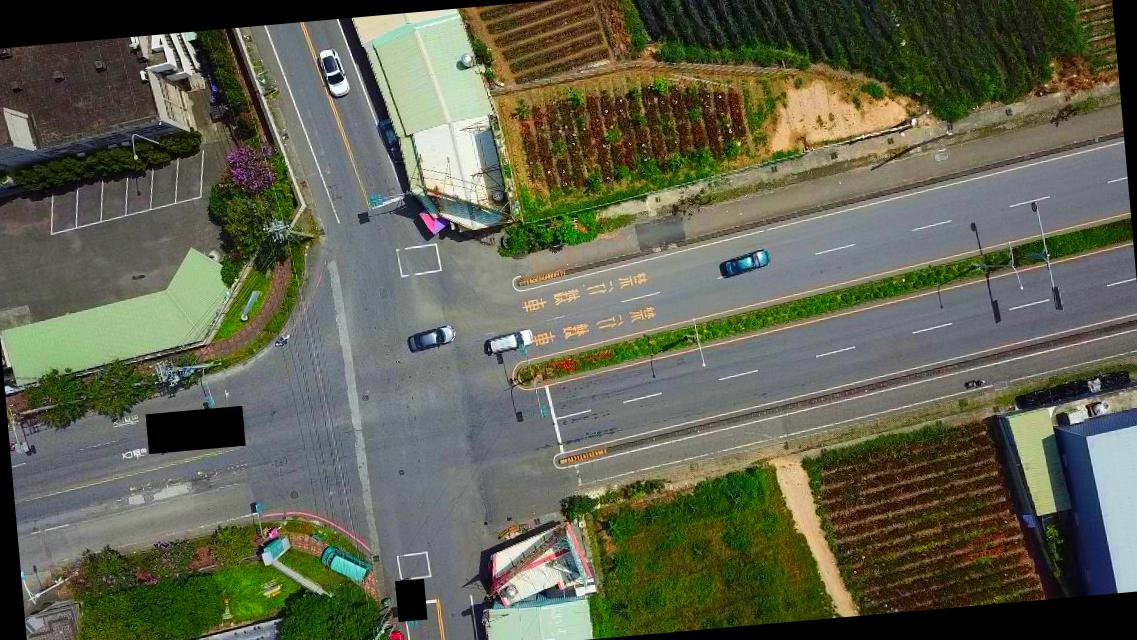vehicle: (321, 546, 371, 586), (712, 245, 769, 280), (318, 46, 348, 98), (376, 119, 407, 165), (406, 325, 457, 352), (487, 329, 533, 357), (381, 628, 408, 639)
